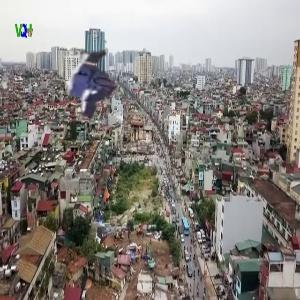drone: (38, 31, 138, 131)
